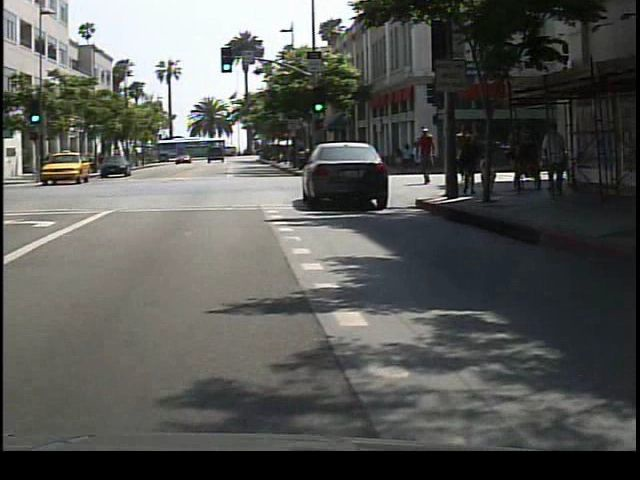person: (418, 125, 445, 188)
